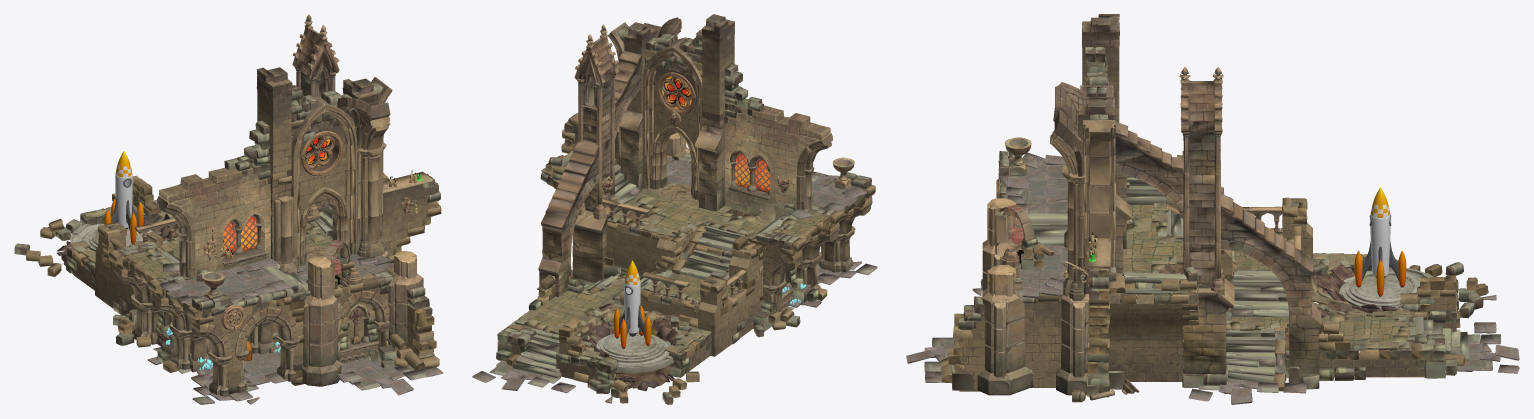
Rendered from mainGothic4.glb.
3 renders of one model, left to right at view 1: azimuth 30°, elevation 25°; view 2: azimuth 150°, elevation 25°; view 3: azimuth 270°, elevation 25°, orthographic. The views are drawn at different scales.
Visible parts, largest first — view 1: composition_main, Object_5.008, Floor2.001; view 2: composition_main, Floor2.001, Object_5.008; view 3: composition_main, Object_5.008, Floor2.001.
Boxes of the visible parts, bbox=[...] form: composition_main: bbox=[14, 14, 443, 404]; Object_5.008: bbox=[104, 151, 143, 244]; Floor2.001: bbox=[70, 223, 153, 251]; composition_main: bbox=[472, 14, 877, 404]; Floor2.001: bbox=[596, 332, 674, 372]; Object_5.008: bbox=[613, 260, 650, 348]; composition_main: bbox=[906, 14, 1519, 404]; Object_5.008: bbox=[1354, 187, 1406, 296]; Floor2.001: bbox=[1336, 267, 1433, 314].
Size of the model in its own units: 29.11 by 26.77 by 46.44.
31 materials, 16 textured.
